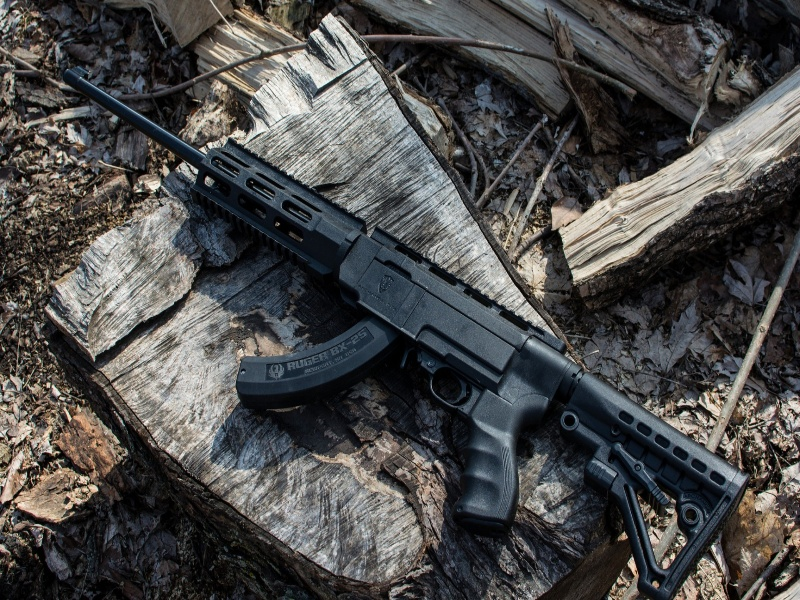weapon: (63, 66, 747, 598)
